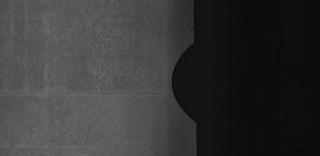welding line: (3, 86, 179, 98)
